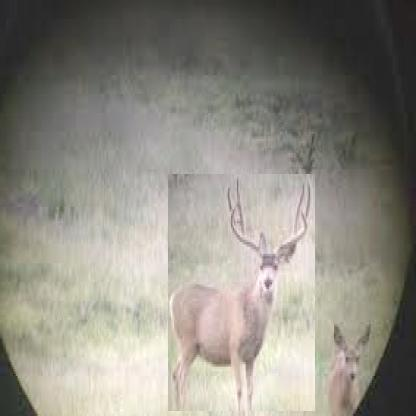Deer: (168, 174, 315, 411), (328, 319, 375, 416)
